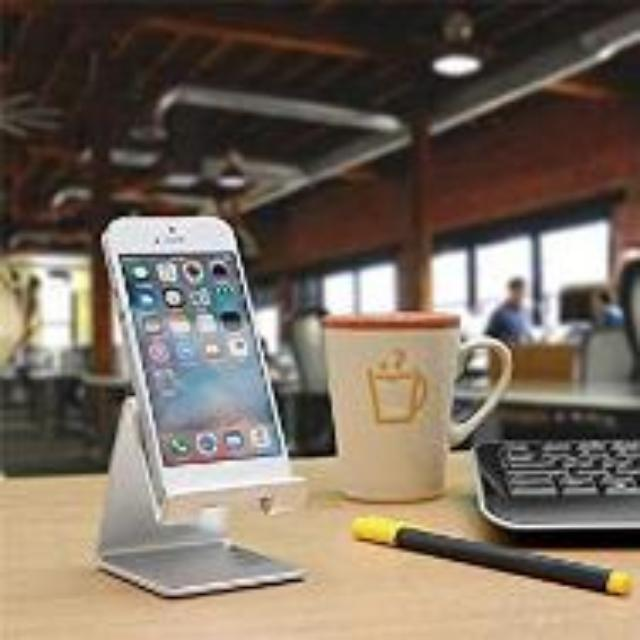Phone: (102, 215, 298, 489)
